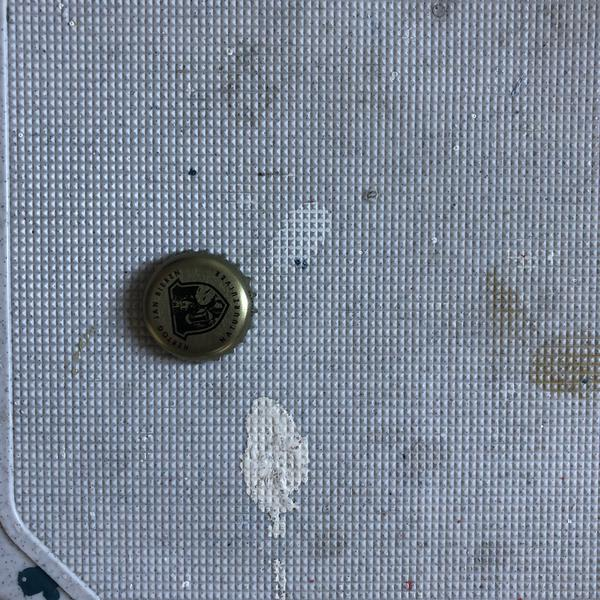hertogjan: (136, 248, 257, 368)
